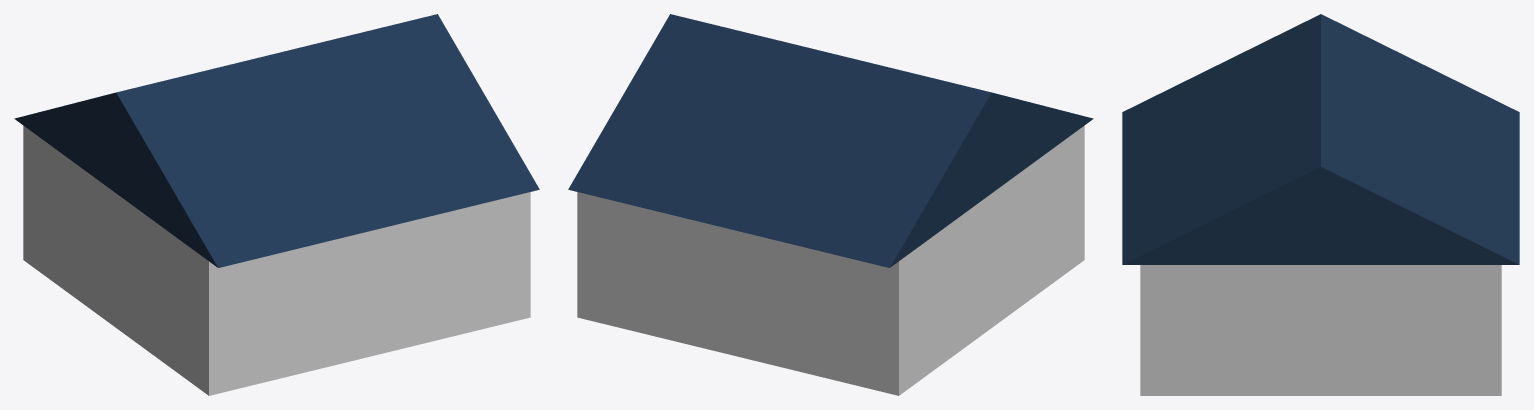
File: BaseHaus_2.fbx
3 renders of one model, left to right at view 1: azimuth 30°, elevation 25°; view 2: azimuth 150°, elevation 25°; view 3: azimuth 270°, elevation 25°, orthographic. The views are drawn at different scales.
Visible parts, largest first — view 1: Etage; view 2: Etage; view 3: Etage.
Part boxes in pixels (x1,y1,x2,y2): Etage: (14,14,539,395); Etage: (568,14,1093,395); Etage: (1122,14,1519,395).
Bounding box in the file's own units: 2000 × 1400 × 2200.
